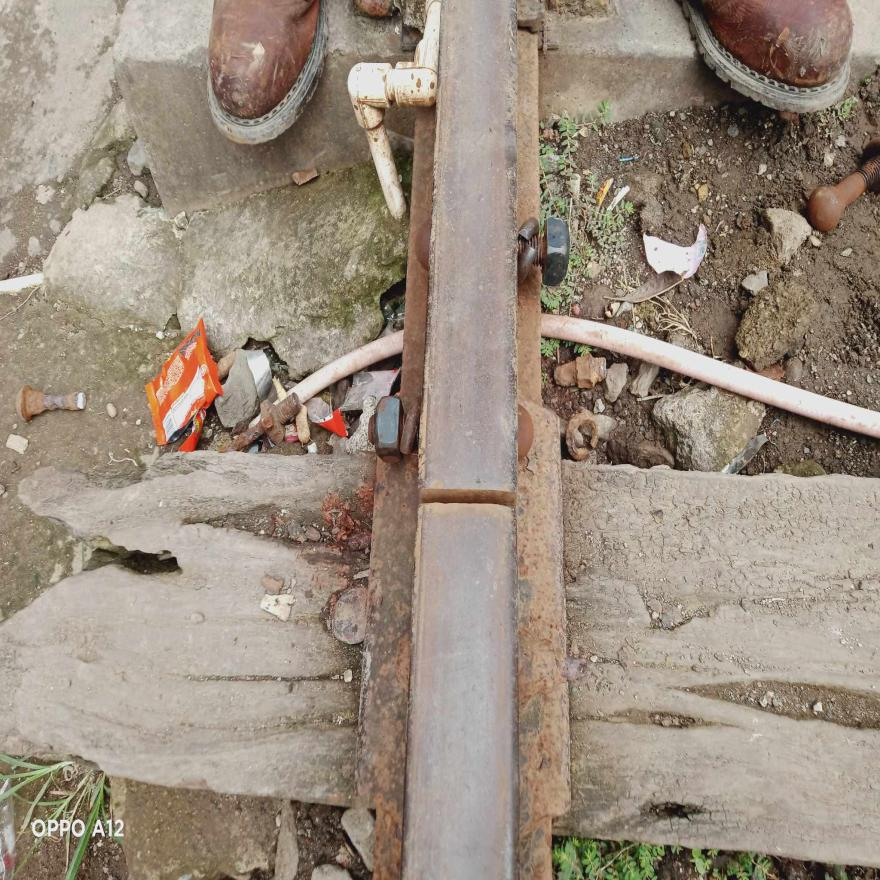railway-gap: (388, 392, 549, 605)
